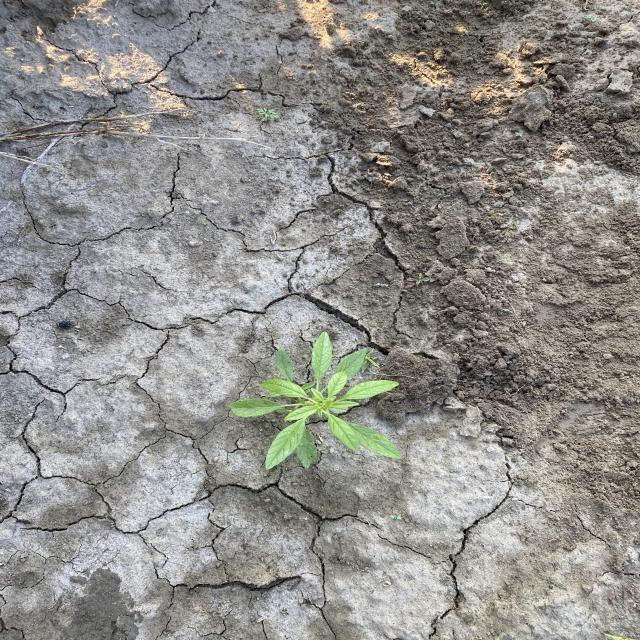Ragweed: (253, 108, 281, 122)
Waterhemp: (226, 329, 402, 472)
